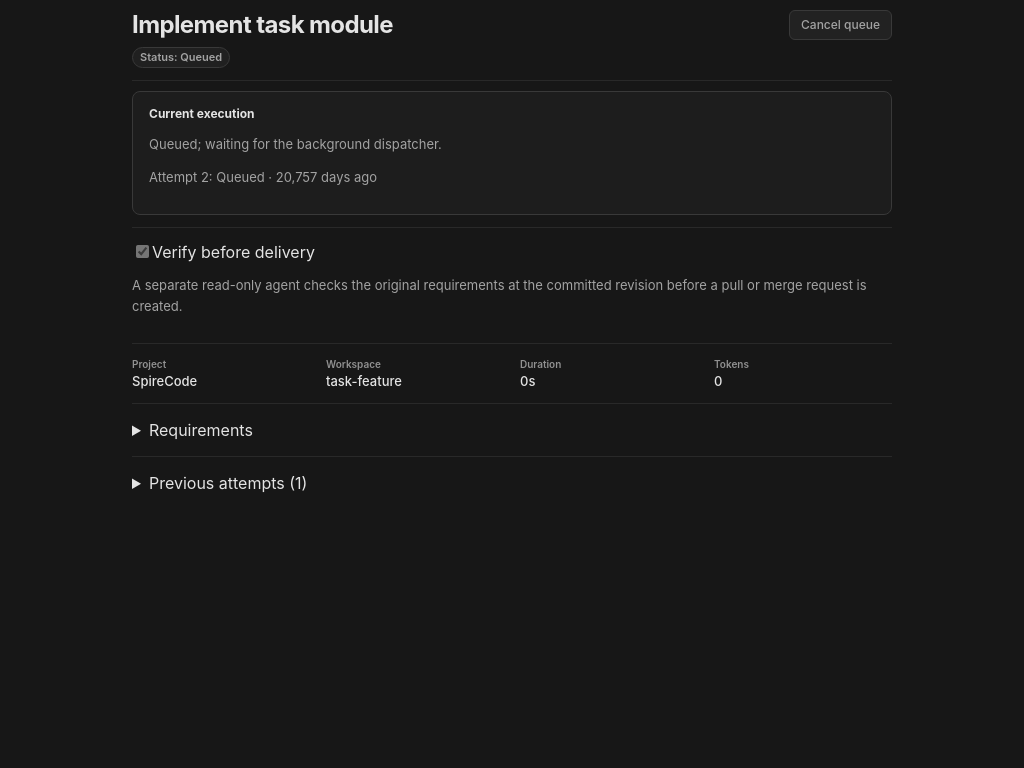
Test case: TaskDetail › keeps a previous run report accessible while a follow-up run is queued
The width and height of the screenshot is (1024, 768).
Click the heading "Previous attempts (1)": (228, 483) x1=149 y1=473 x2=307 y2=493
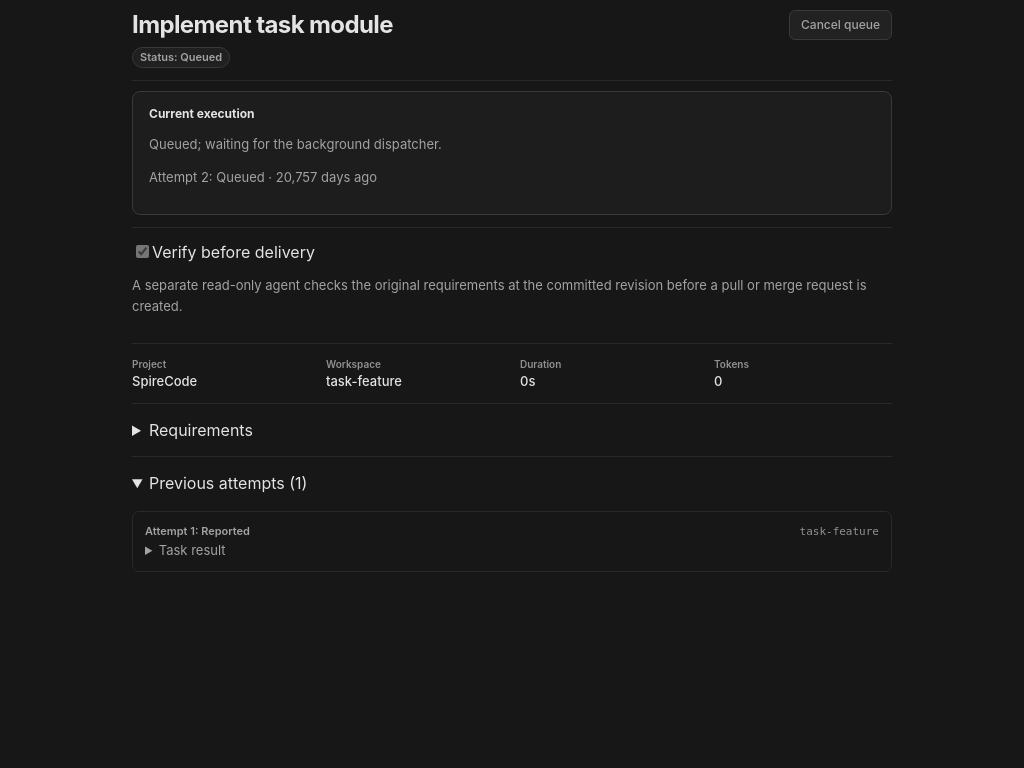
Click the heading "Task result": (192, 550) x1=159 y1=542 x2=226 y2=558
(page scrolled)
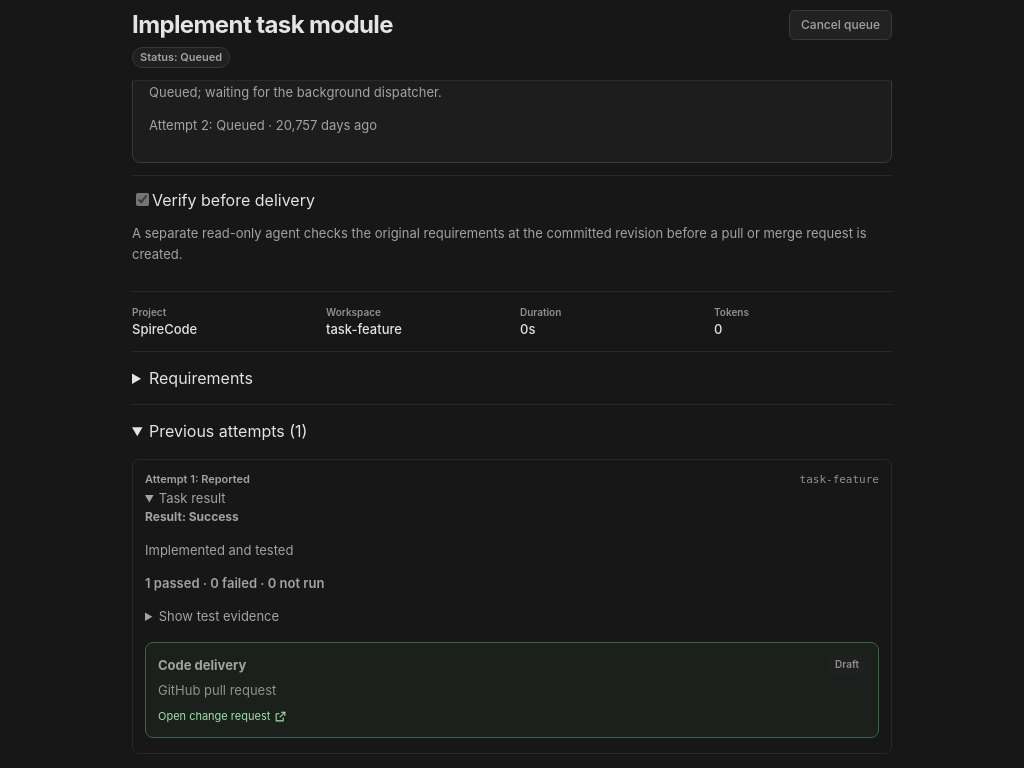
Result: the text "Implemented and tested" is shown at x1=145 y1=542 x2=293 y2=558
Result: the link "Open change request" is shown at x1=158 y1=708 x2=287 y2=725
